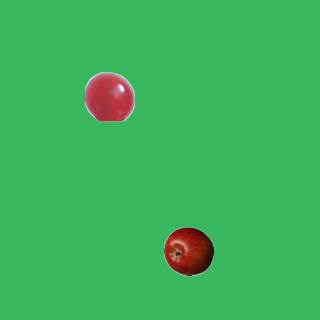Apple Braeburn: (163, 226, 213, 276)
Redcurrant: (84, 71, 134, 121)
